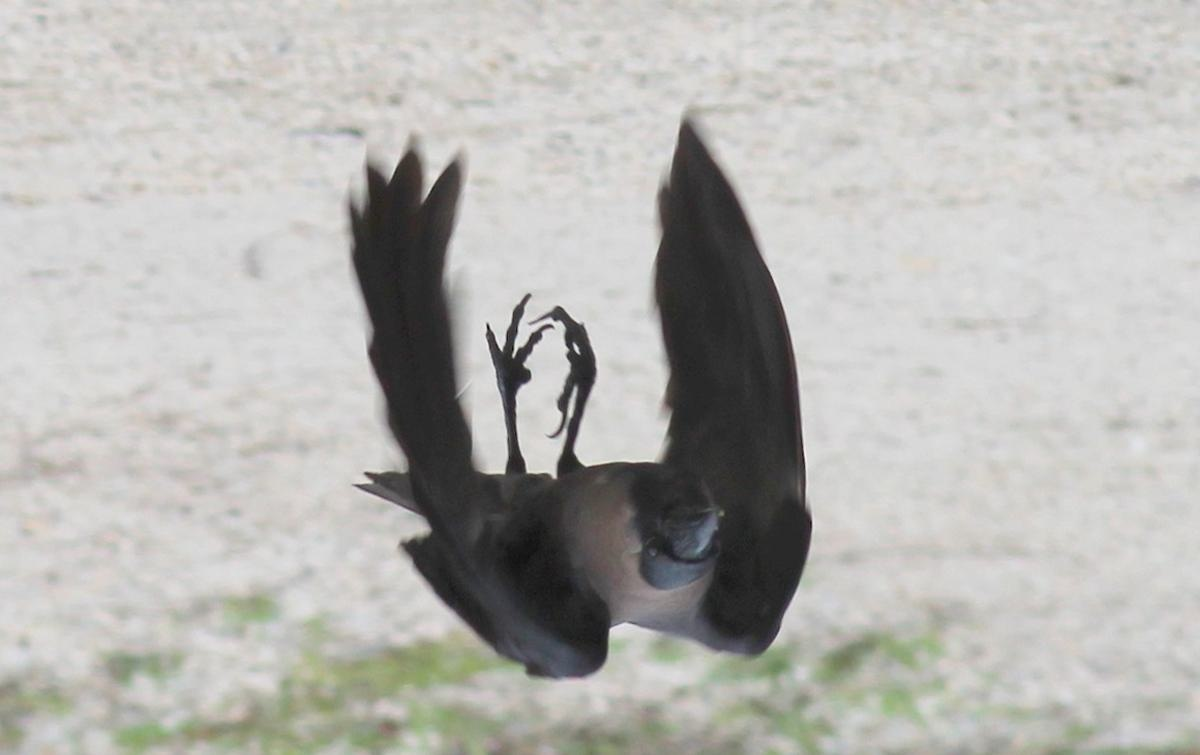crow: (349, 109, 841, 721)
